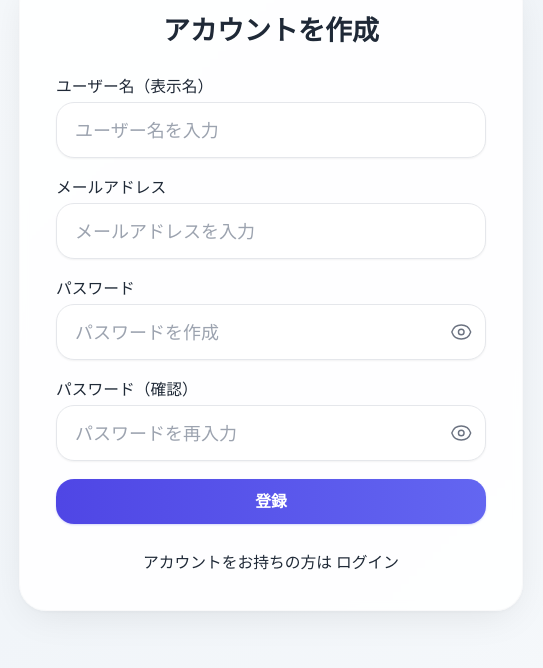
RegisterPage › when not authenticated › should validate that passwords match
The width and height of the screenshot is (543, 668).
Type "testuser" into the field labelled "ユーザー名（表示名）" at (271, 130), box left=56, top=102, right=486, bottom=158
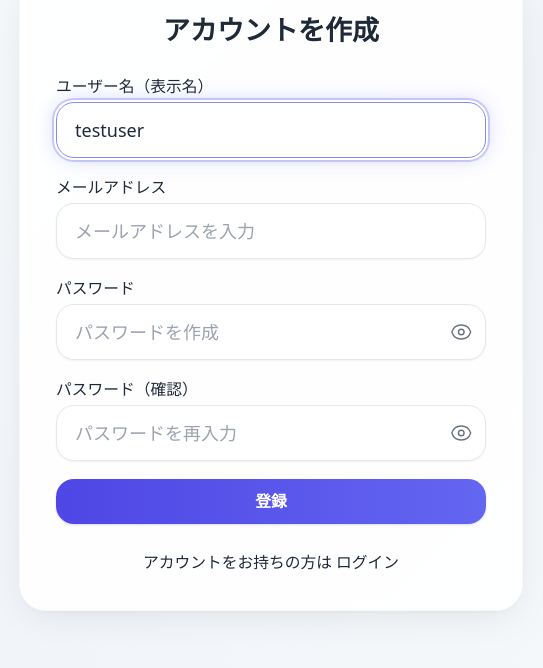
Type "test@example.com" into the field labelled "メールアドレス" at (271, 231), box left=56, top=203, right=486, bottom=259
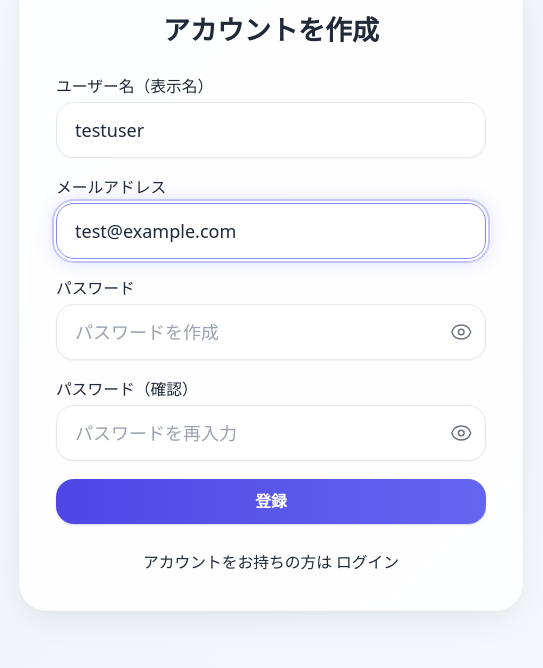
Type "Password1" into the password field labelled "パスワード" at (271, 332), box left=56, top=304, right=486, bottom=360
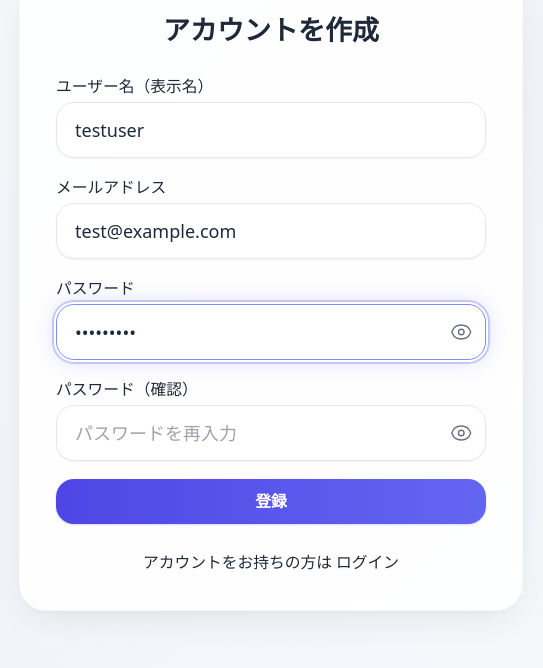
Type "Password2" into the password field labelled "パスワード（確認）" at (271, 433), box left=56, top=405, right=486, bottom=461
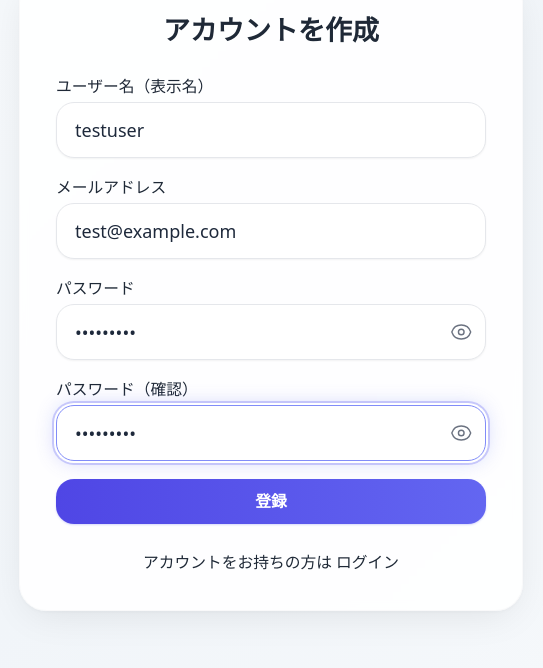
Click the button "登録" at (271, 502), box left=56, top=479, right=486, bottom=524
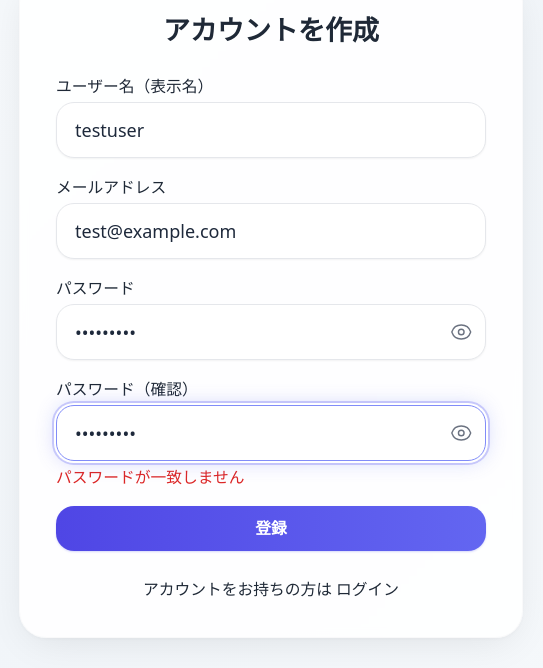
Check: the text "パスワードが一致しません" is shown, box left=56, top=466, right=244, bottom=488
